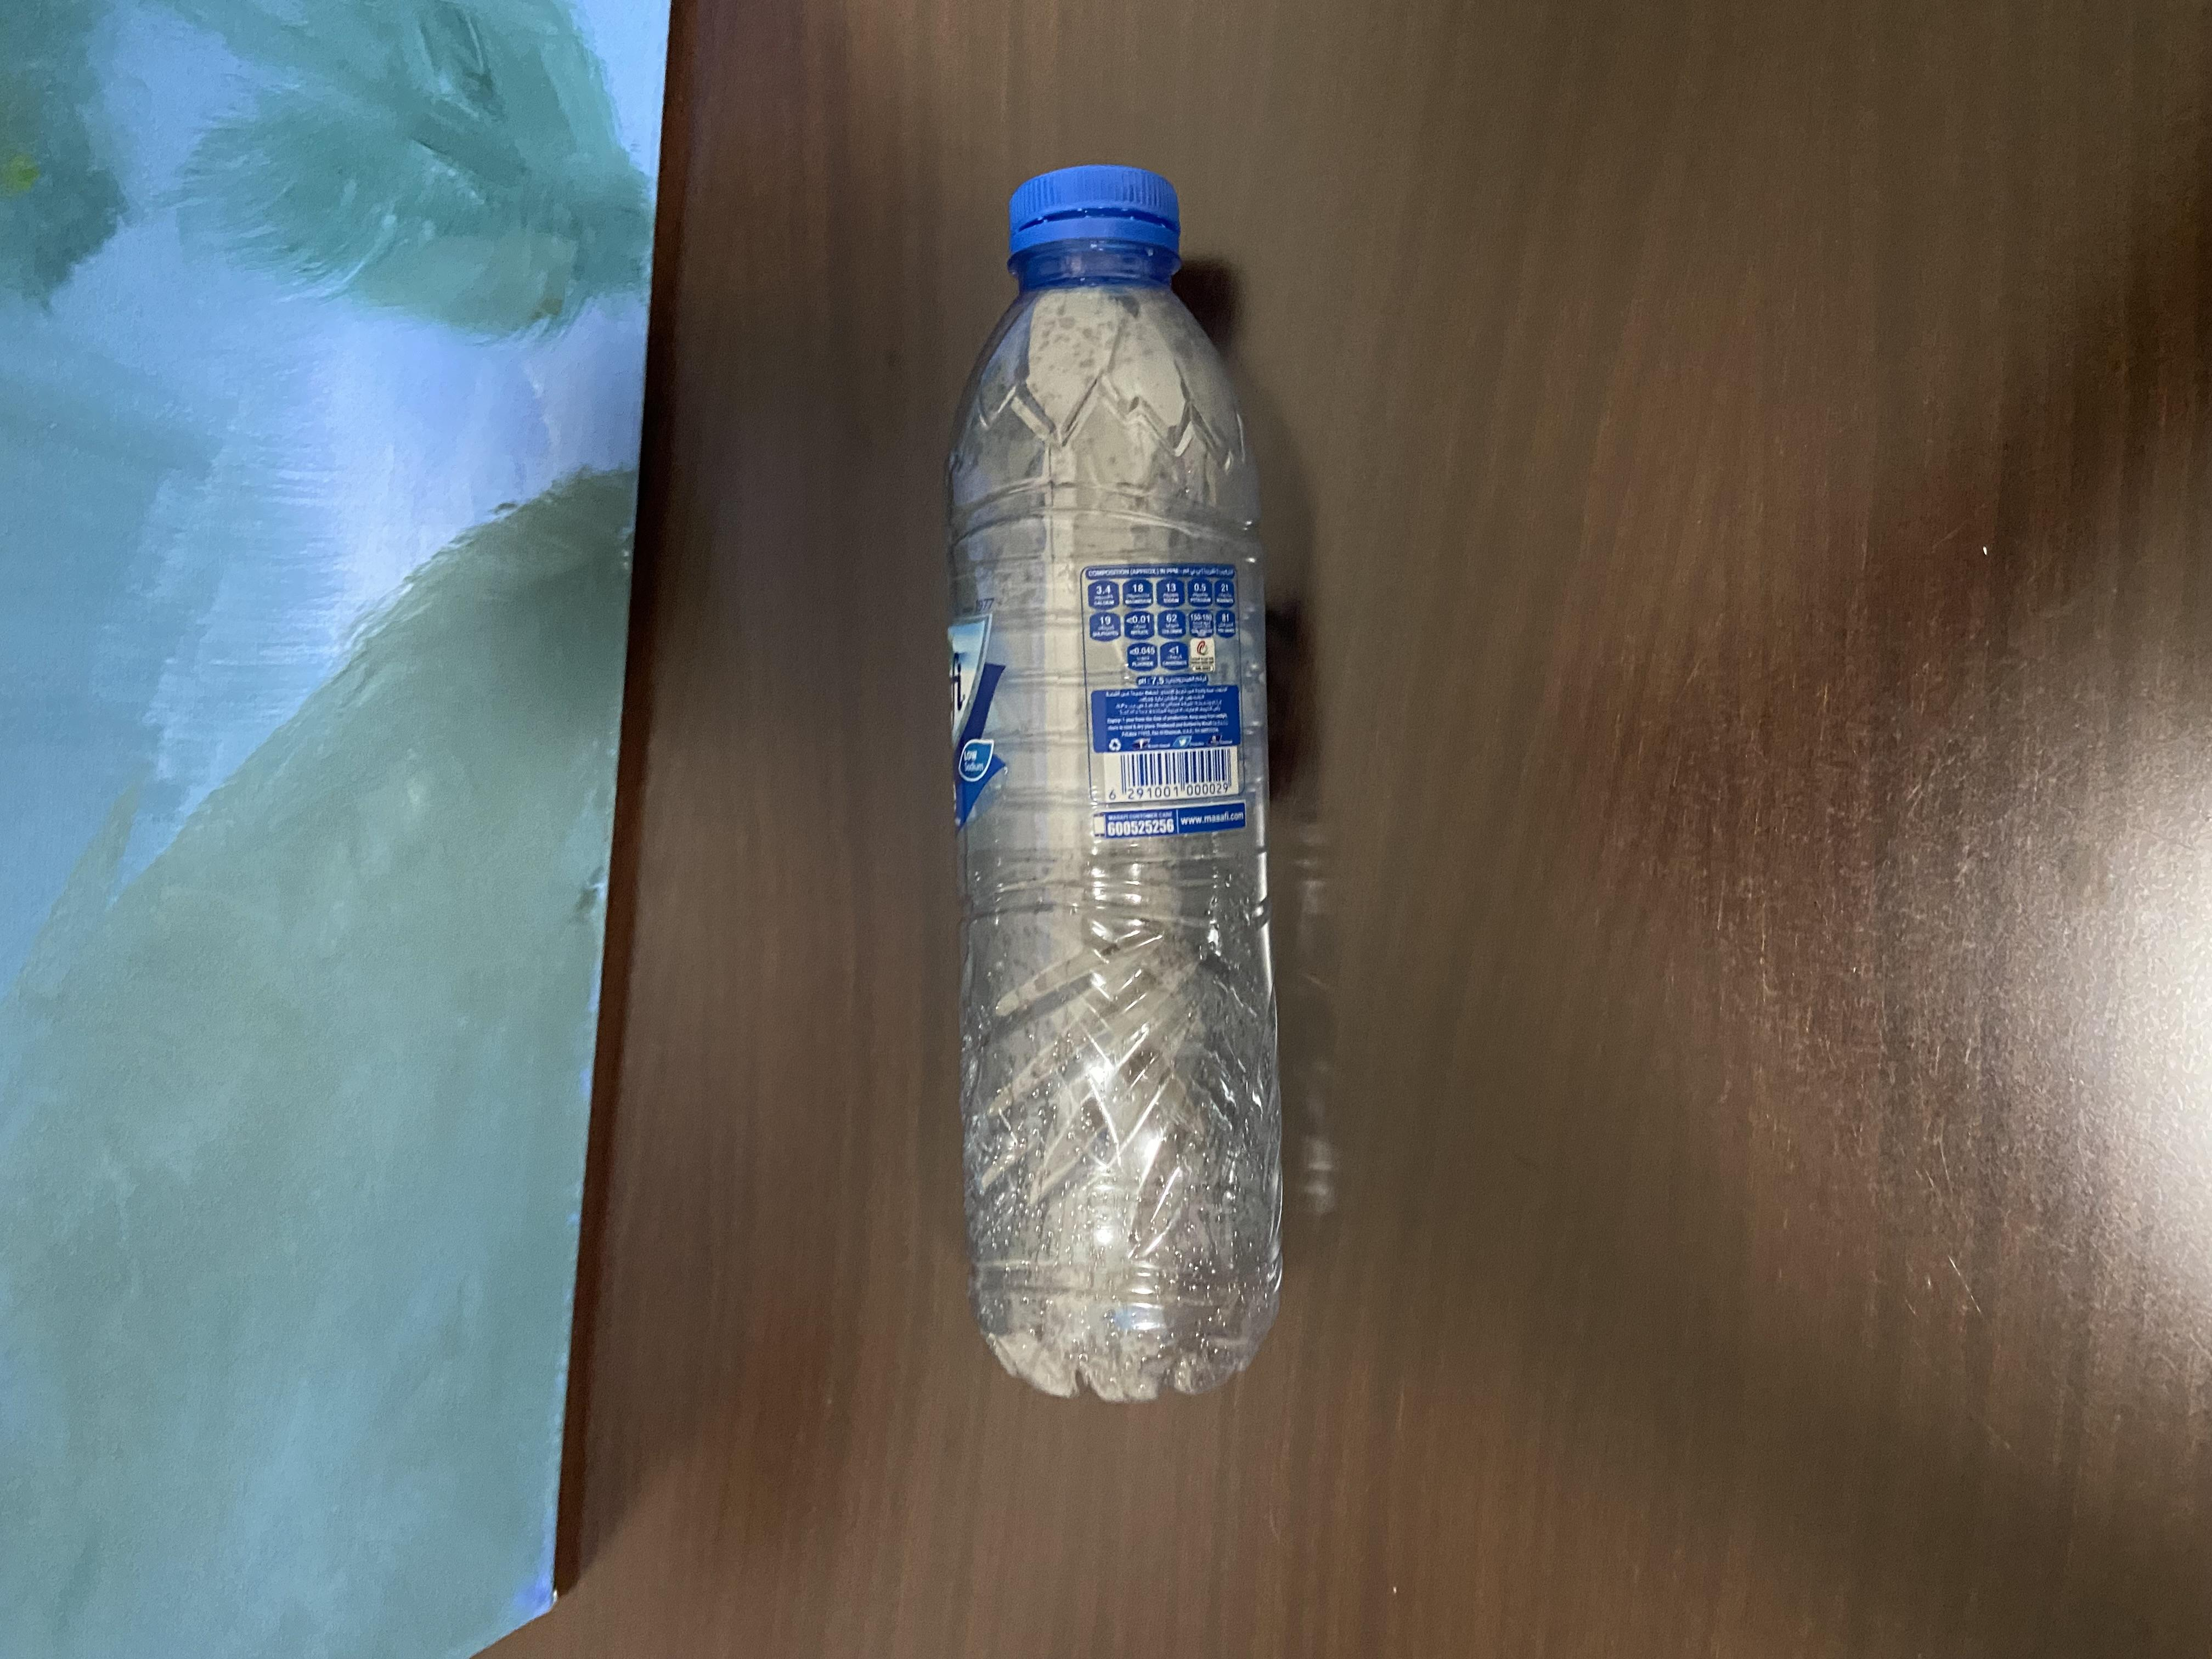bottle: (319, 695, 2036, 1004)
